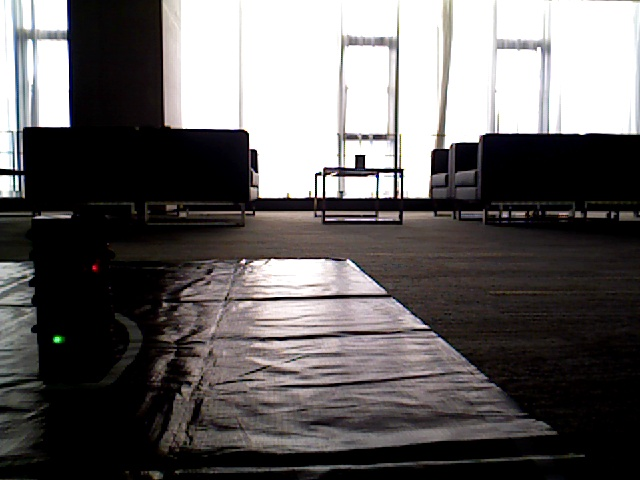green: (39, 246, 86, 363)
